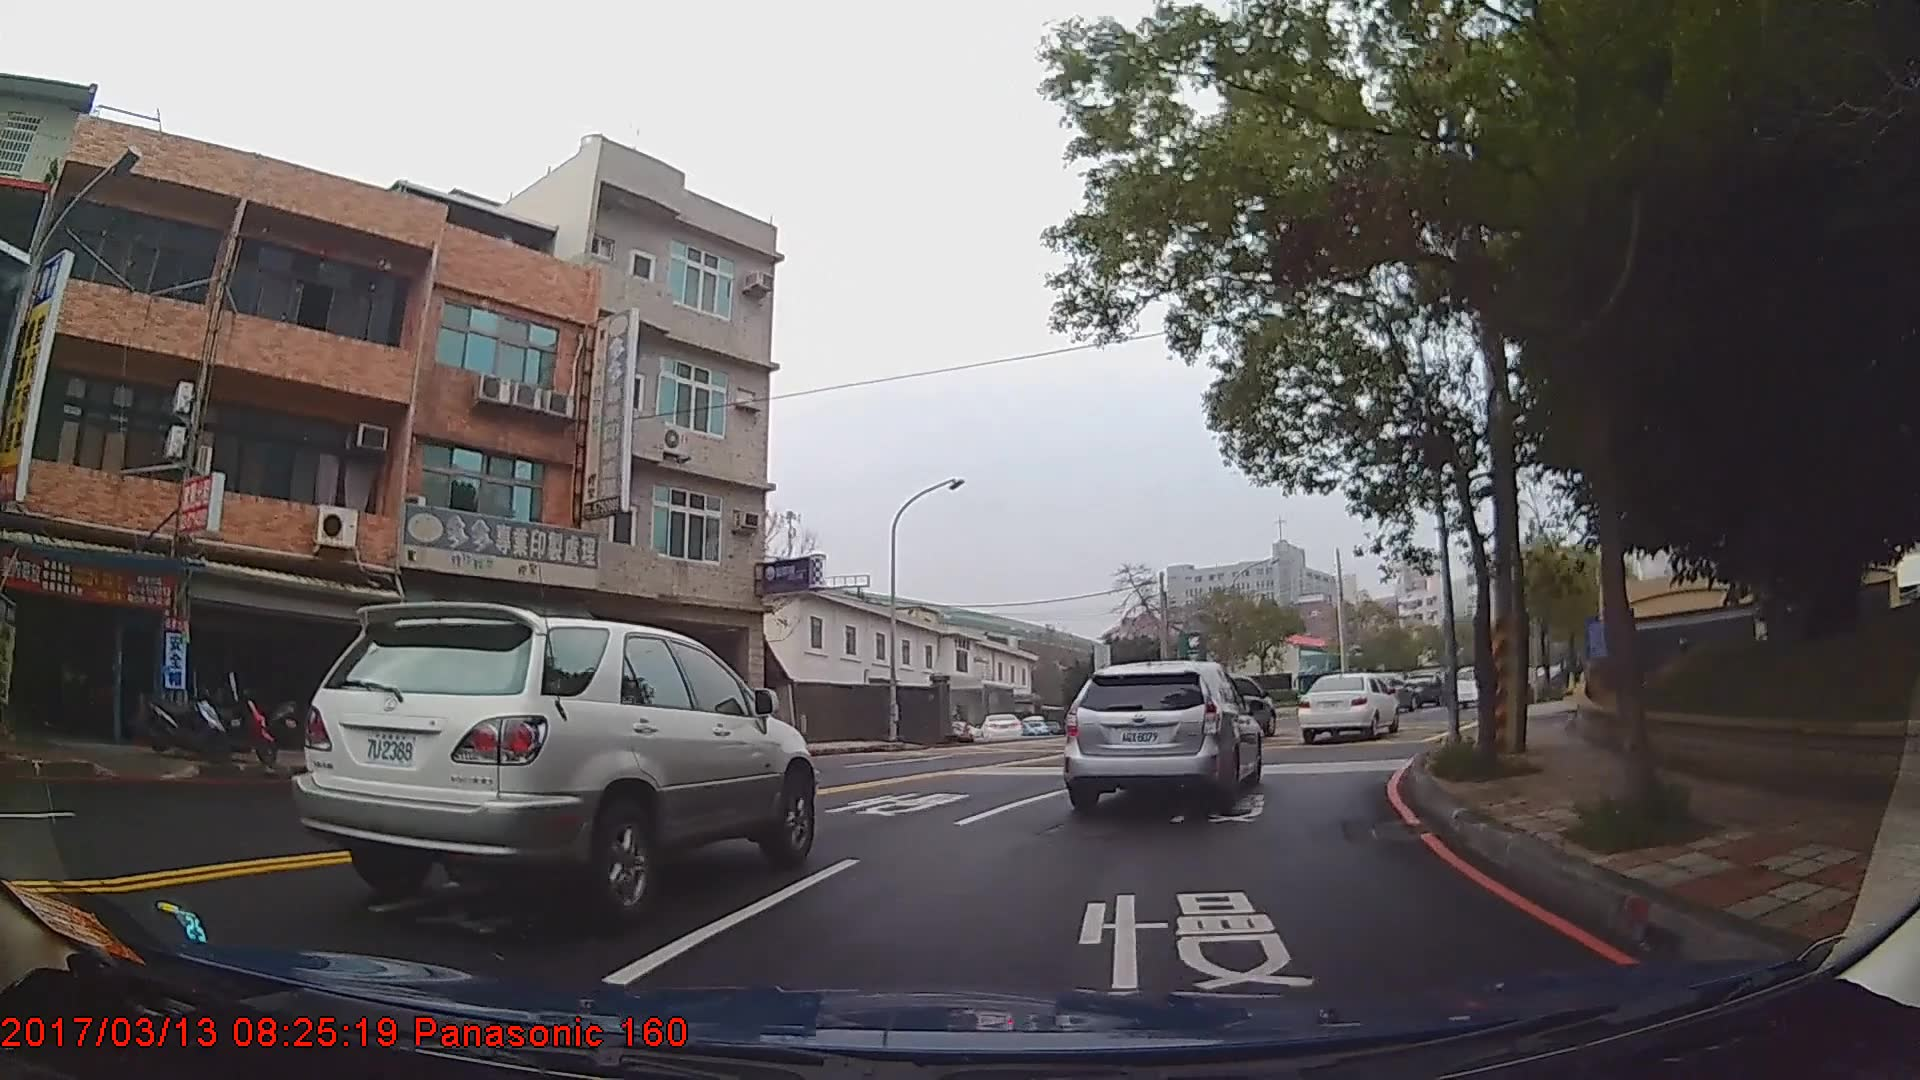vehicle: (287, 600, 818, 934), (1058, 657, 1259, 808), (1296, 670, 1400, 741), (978, 712, 1023, 741)
